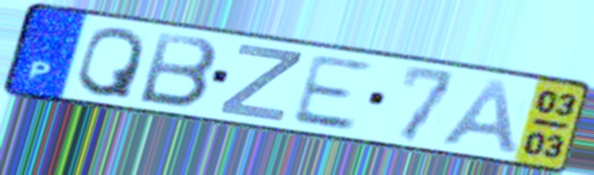7: (398, 62, 460, 145)
A: (436, 76, 523, 159)
B: (135, 29, 222, 111)
E: (286, 51, 375, 134)
Q: (73, 25, 148, 101)
Z: (214, 41, 306, 125)
